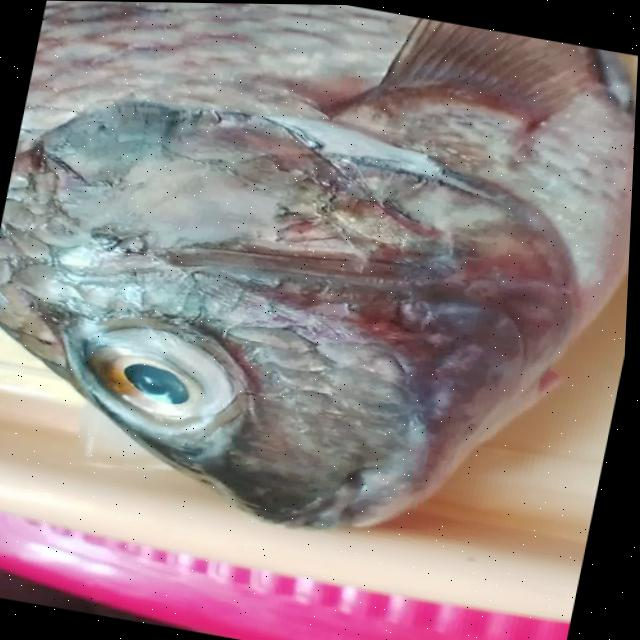Fresh: (64, 307, 269, 453)
